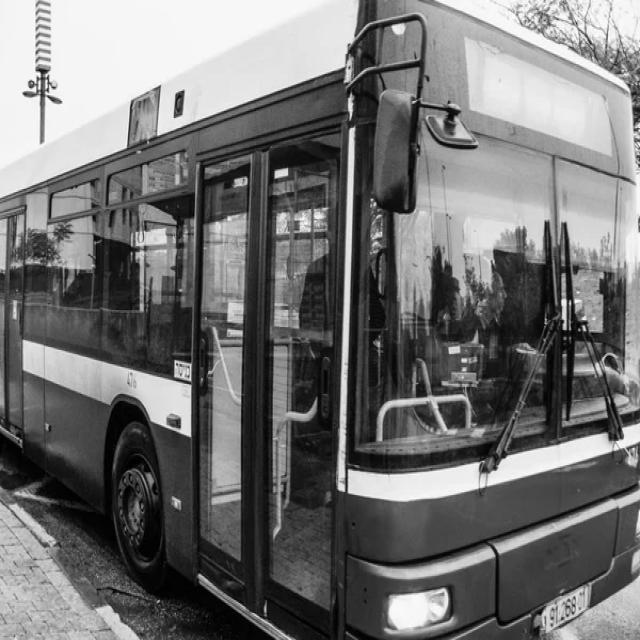Bus: (0, 1, 640, 640)
